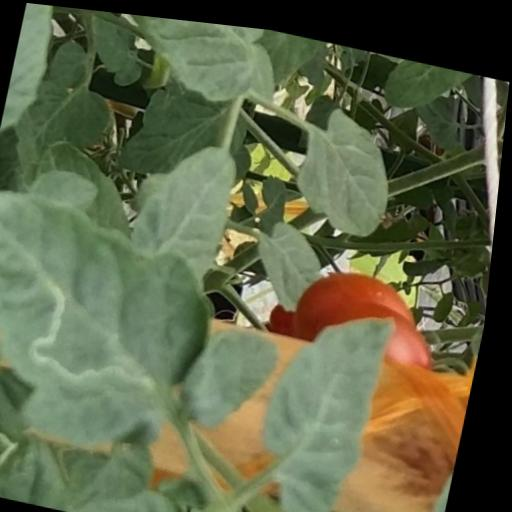Healthy: (253, 281, 409, 512), (128, 120, 250, 278), (288, 93, 405, 233), (182, 311, 290, 437), (246, 202, 341, 314)
Leaf_Miner: (0, 182, 234, 466), (0, 349, 58, 501)
